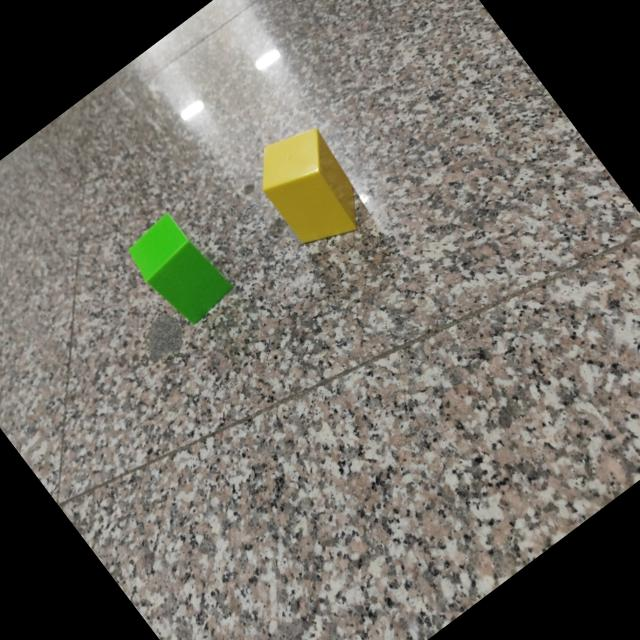green: (129, 213, 235, 324)
yellow: (262, 129, 361, 246)
